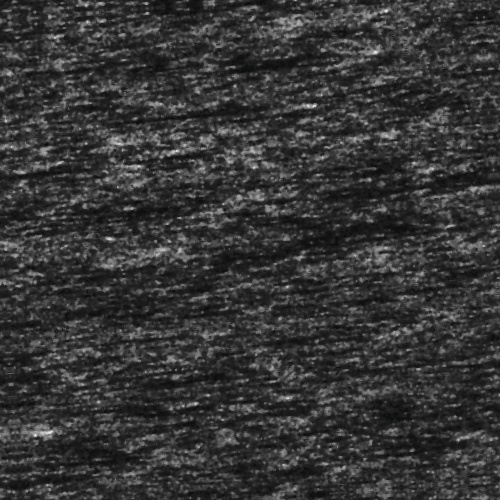object: (73, 142, 166, 163), (0, 407, 63, 416), (278, 104, 351, 109), (185, 324, 226, 329), (352, 61, 363, 70), (185, 204, 216, 207)
shadow: (0, 142, 119, 163), (244, 61, 357, 70), (141, 104, 314, 109), (75, 324, 205, 329), (10, 204, 200, 207), (488, 376, 500, 385), (0, 15, 64, 16)
